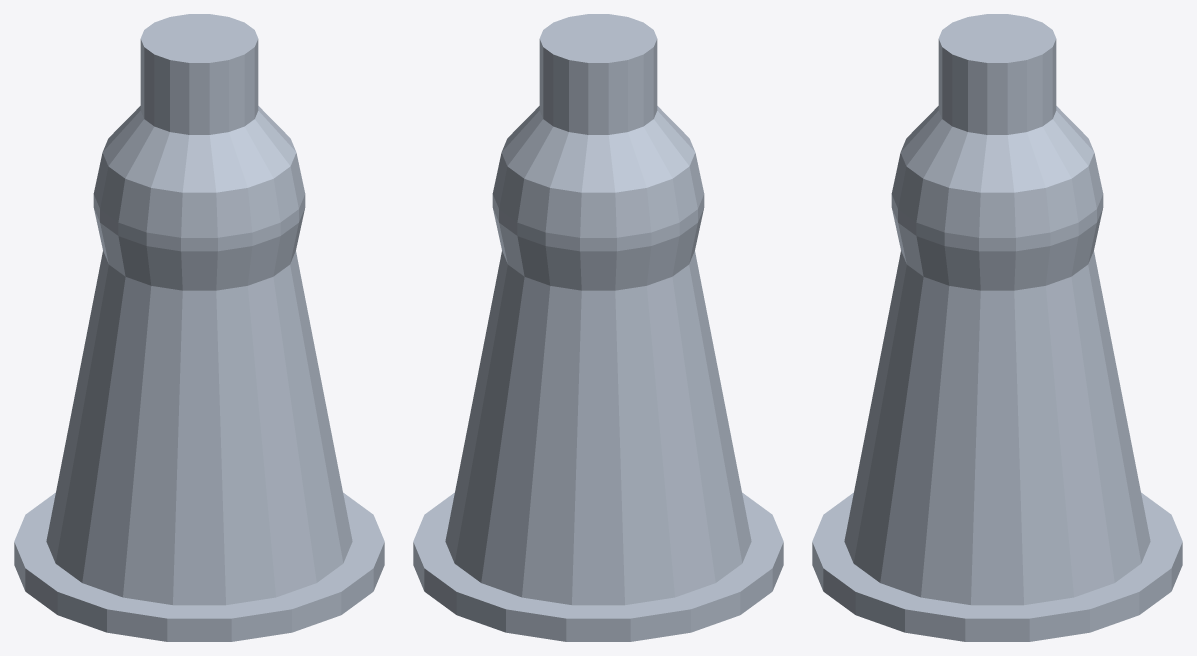
File: oerlikon_20mm_base.fbx
3 views of the same model, side by side, from view 1: azimuth 30°, elevation 25°; view 2: azimuth 150°, elevation 25°; view 3: azimuth 270°, elevation 25° (orthographic).
Parts seen in each view (by area): view 1: Base; view 2: Base; view 3: Base.
Boxes of the visible parts, x1,y1,x2,y2 form: Base: [14, 14, 384, 641]; Base: [413, 14, 783, 641]; Base: [812, 14, 1182, 641].
Bounding box in the file's own units: 68.38 × 109 × 69.43.
